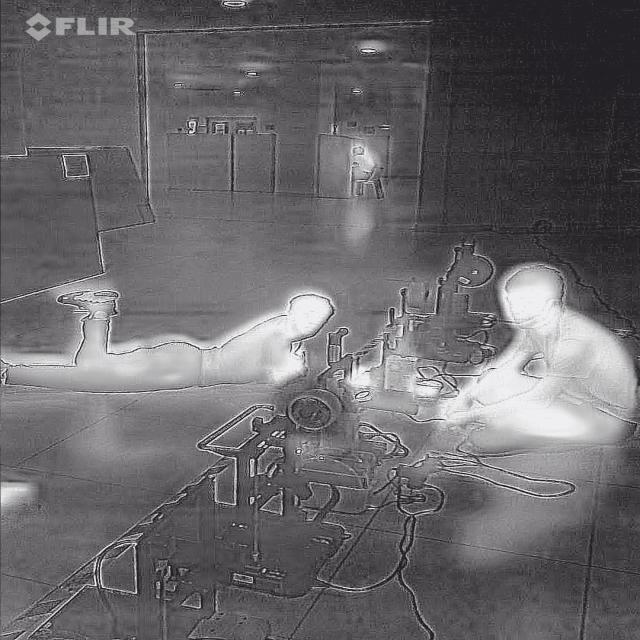Victim: (432, 248, 640, 456), (0, 283, 349, 402)
